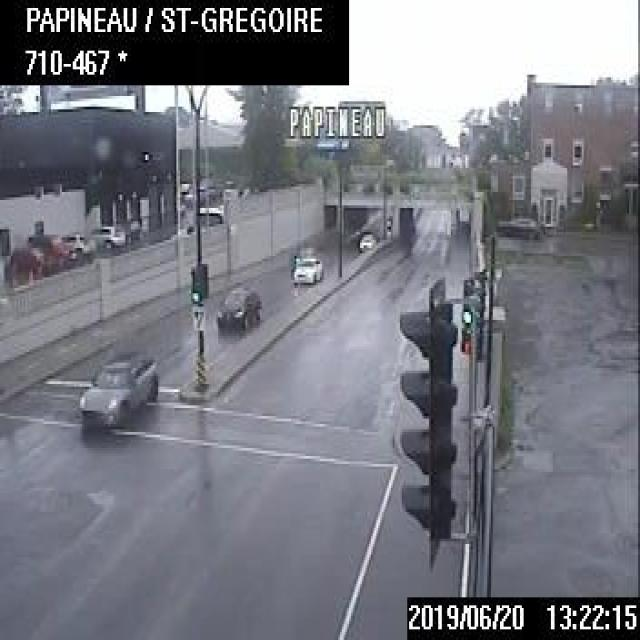vehicle: (76, 355, 156, 424), (27, 231, 73, 272), (216, 286, 260, 326), (49, 231, 92, 260), (84, 221, 128, 249), (493, 215, 542, 238), (291, 253, 320, 283), (356, 229, 374, 248)
